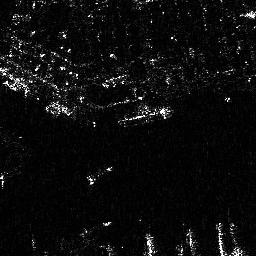ship: (116, 107, 178, 129)
